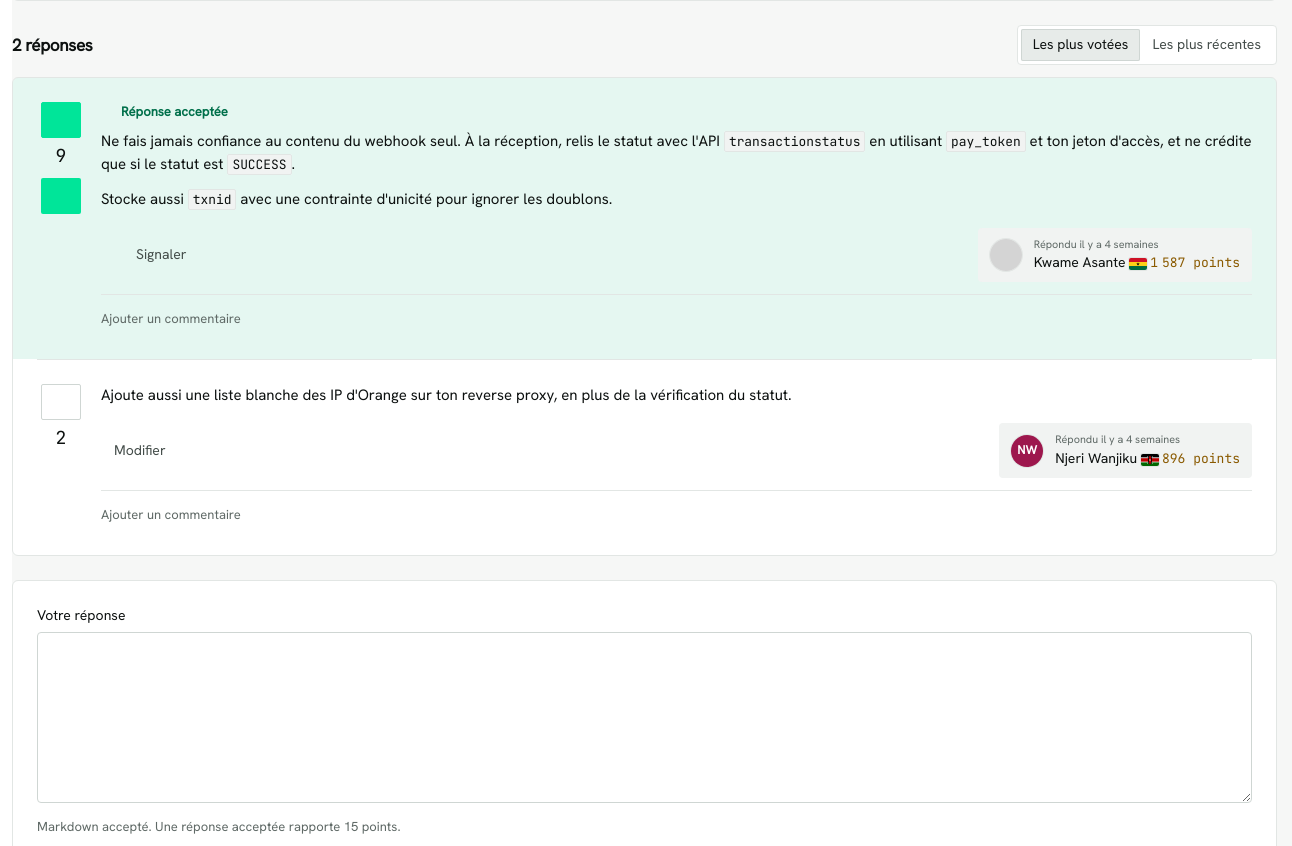
Test: QuestionPage, modification (QA-3) › ne propose de modifier que les réponses que le serveur déclare modifiables
(page scrolled)
Click the button "Modifier".
click(140, 451)  # box [101,435,179,467]
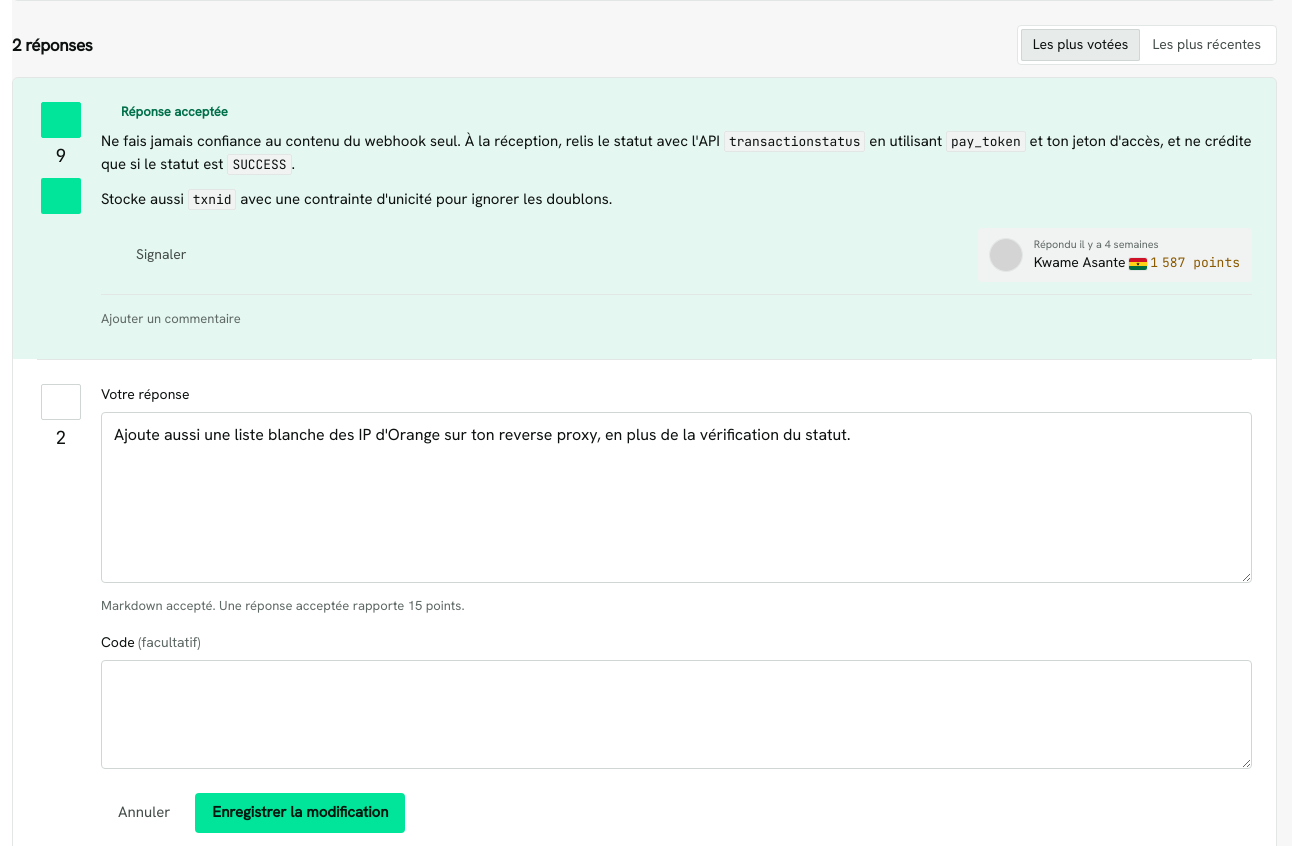
Replace the text in the text box labelled "Votre réponse" with "Ajoute une liste blanche des IP d’Orange sur le reverse proxy, et vérifie le statut." at [676, 497], box [101,412,1252,583]
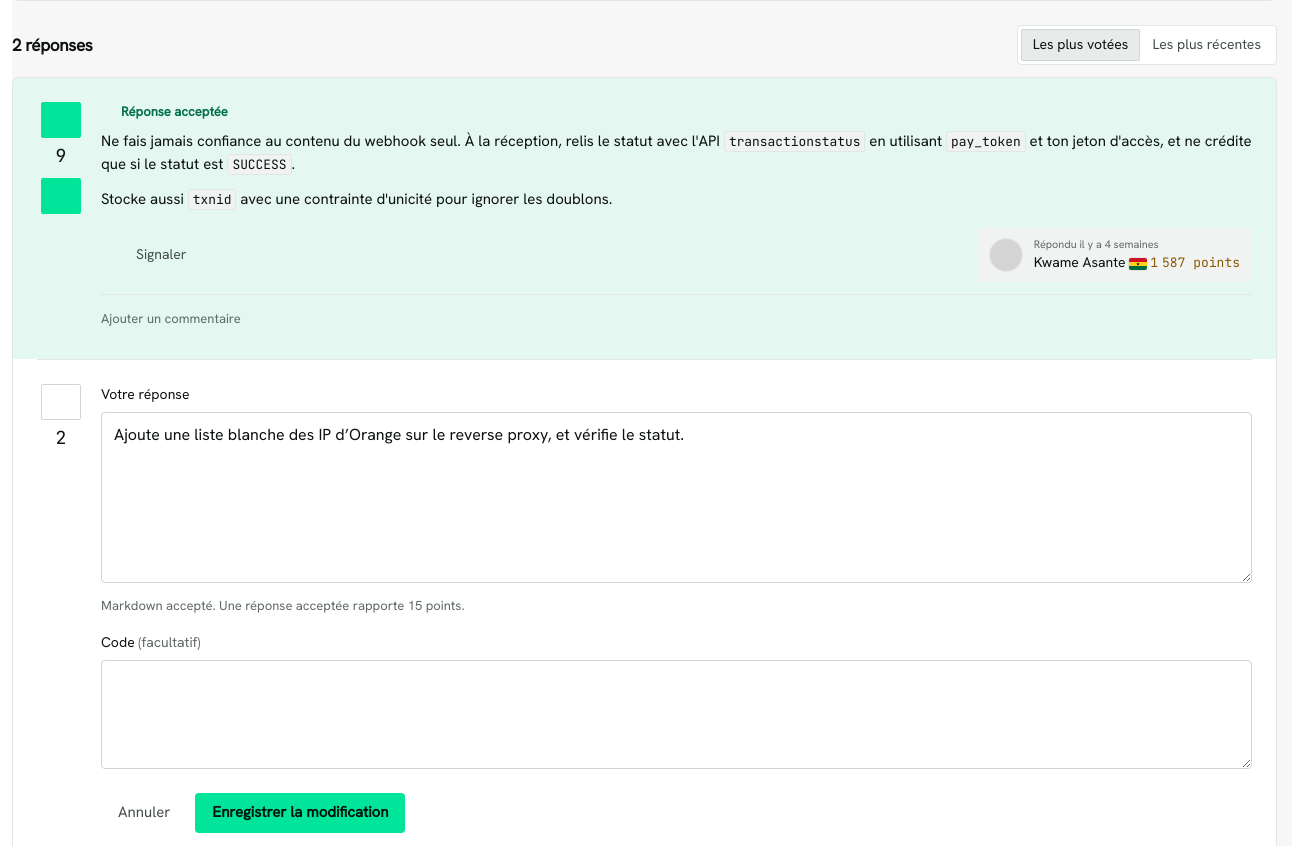
Click the button "Enregistrer la modification".
click(300, 813)  # box [195,793,406,833]
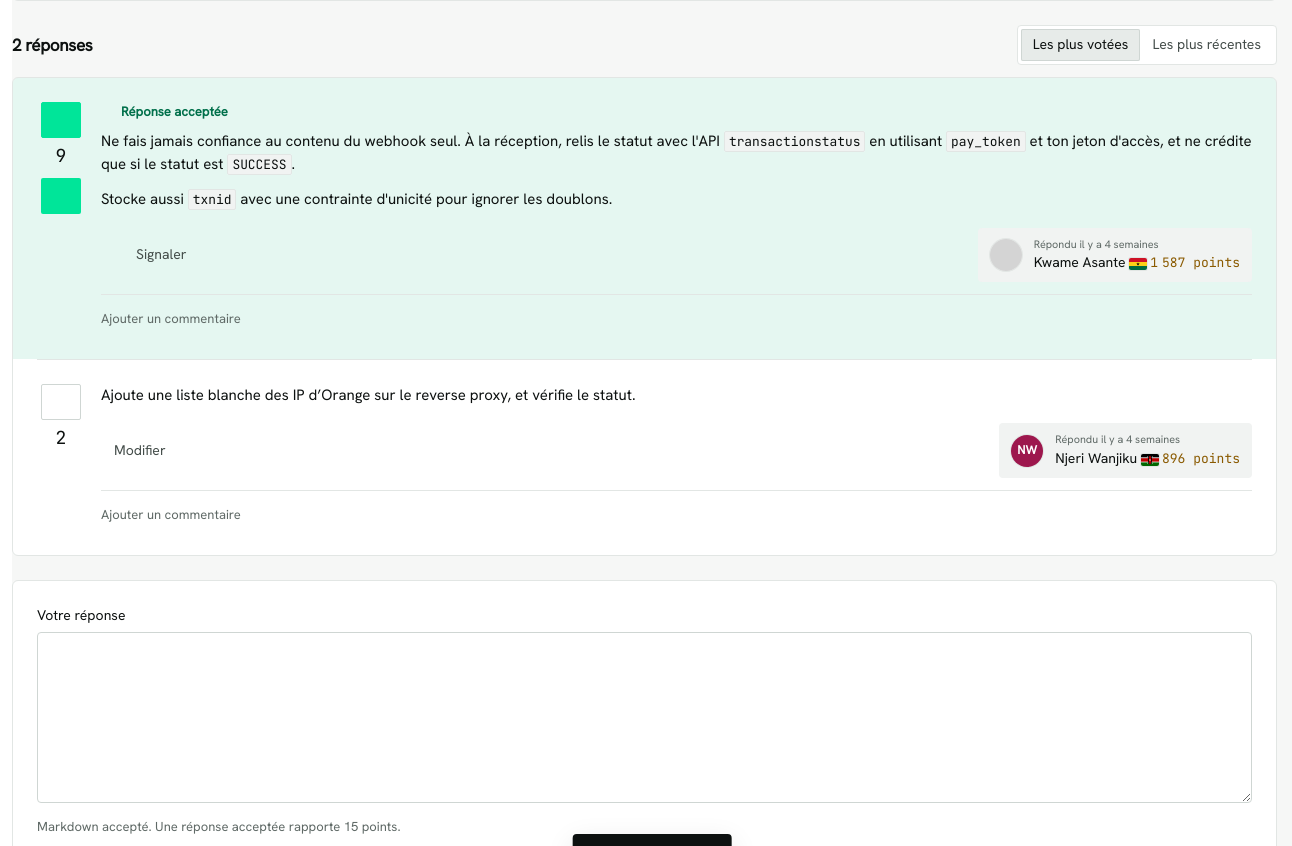
Now the text "et vérifie le statut" is shown, box [101,385,636,405]
